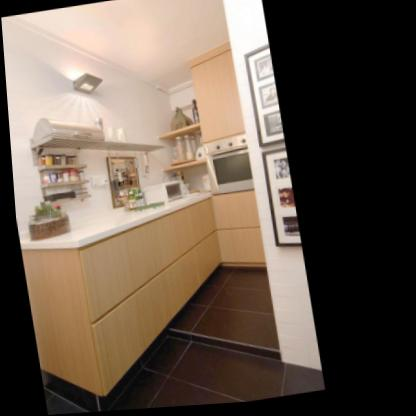Cabinet: (12, 191, 277, 407)
